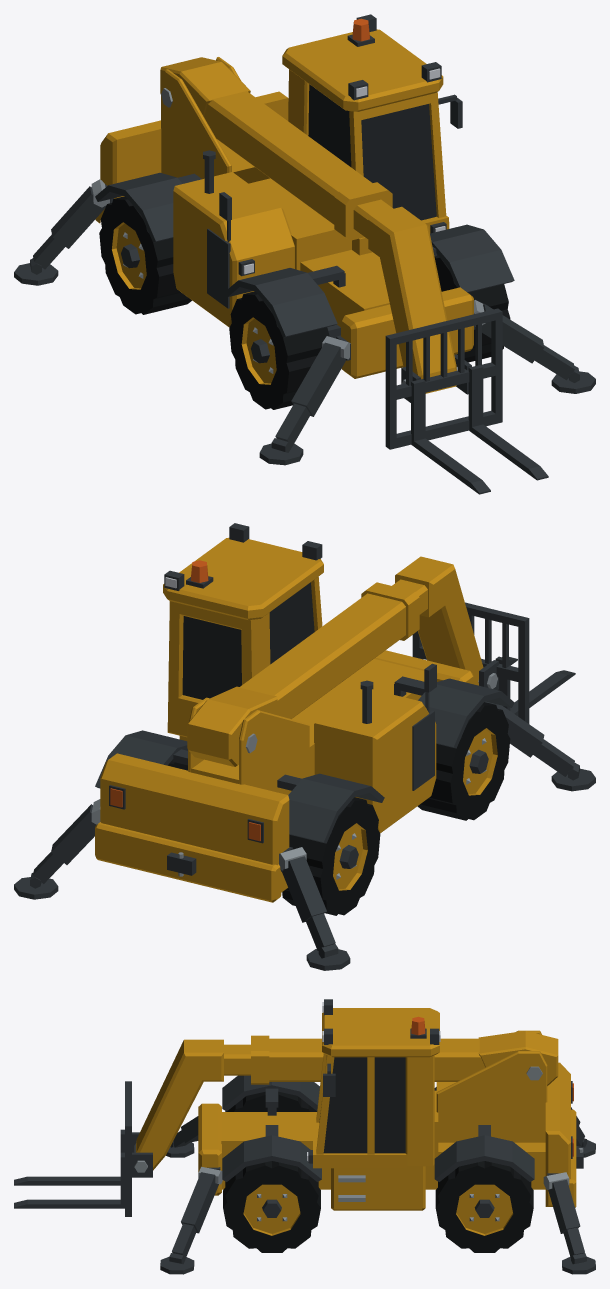
Rendered from telehandler-88c668.glb.
3 views of the same model, one above another, from view 1: azimuth 30°, elevation 25°; view 2: azimuth 150°, elevation 25°; view 3: azimuth 270°, elevation 25° (orthographic). The views are drawn at different scales.
Parts seen in each view (by area): view 1: machine, wheel-mesh-r (×2), boom-outer, carriage, boom-inner, stab-fr-leg, stab-rr-leg, stab-fl-leg, wheel-mesh-l; view 2: machine, boom-outer, wheel-mesh-r (×2), boom-inner, carriage, stab-rr-leg, stab-rl-leg, stab-fr-leg; view 3: machine, wheel-mesh-l (×2), boom-outer, boom-inner, carriage, stab-fl-leg, stab-rl-leg, wheel-mesh-r, stab-fr-leg, stab-rr-leg.
Boxes of the visible parts, x1,y1,x2,y2 form: machine: [95, 14, 514, 378]; wheel-mesh-r (×2): [99, 196, 329, 409]; boom-outer: [160, 57, 392, 240]; carriage: [385, 308, 548, 494]; boom-inner: [353, 199, 457, 393]; stab-fr-leg: [259, 336, 350, 465]; stab-rr-leg: [14, 179, 109, 285]; stab-fl-leg: [474, 300, 595, 393]; wheel-mesh-l: [434, 254, 510, 362]; machine: [95, 523, 514, 902]; boom-outer: [187, 582, 419, 766]; wheel-mesh-r (×2): [282, 702, 510, 915]; boom-inner: [392, 556, 497, 688]; carriage: [412, 602, 575, 723]; stab-rr-leg: [279, 847, 350, 970]; stab-rl-leg: [14, 799, 100, 899]; stab-fr-leg: [485, 701, 595, 791]; machine: [198, 999, 583, 1210]; wheel-mesh-l (×2): [223, 1161, 533, 1252]; boom-outer: [251, 1030, 558, 1085]; boom-inner: [134, 1039, 250, 1172]; carriage: [14, 1081, 152, 1216]; stab-fl-leg: [160, 1166, 222, 1274]; stab-rl-leg: [543, 1172, 595, 1274]; wheel-mesh-r: [225, 1091, 316, 1111]; stab-fr-leg: [166, 1116, 198, 1157]; stab-rr-leg: [571, 1107, 595, 1157].
Size of the model in its own units: 3.42 by 2.69 by 6.41.
